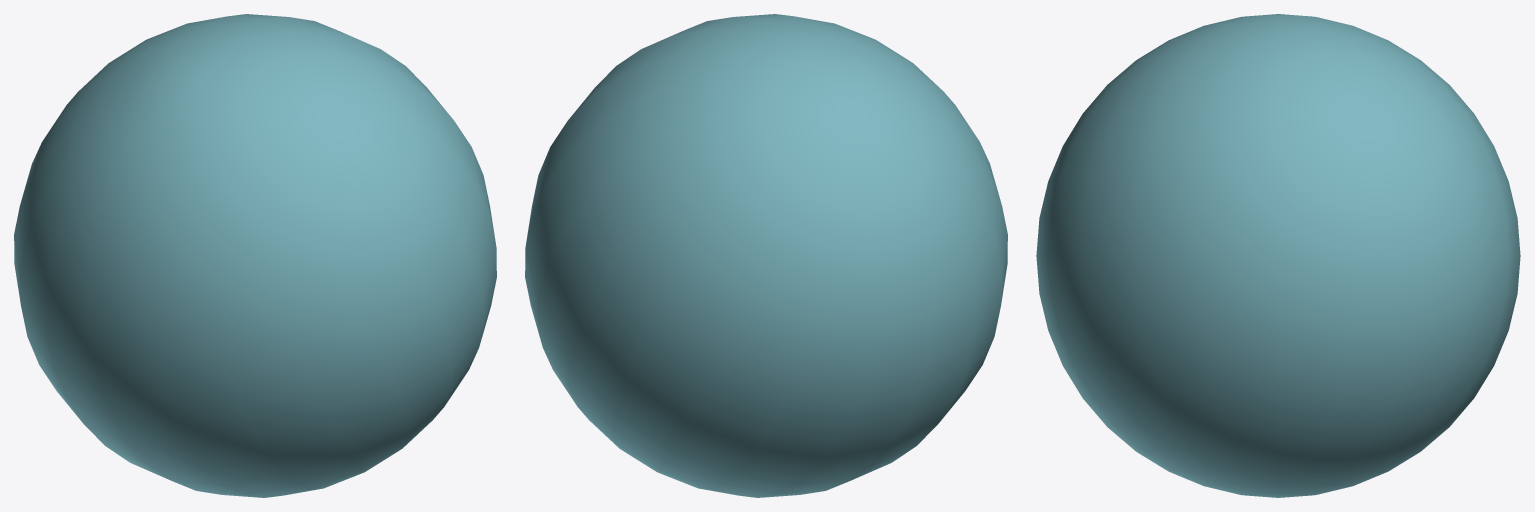
The model's file is Bubble_level4.fbx.
The picture shows the model from 3 angles, left to right: view 1: azimuth 30°, elevation 25°; view 2: azimuth 150°, elevation 25°; view 3: azimuth 270°, elevation 25°; orthographic projection.
Visible parts, largest first — view 1: bubble; view 2: bubble; view 3: bubble.
Part boxes in pixels (x1,y1,x2,y2): bubble: (14, 14, 496, 497); bubble: (525, 14, 1007, 497); bubble: (1036, 14, 1520, 497).
Bounding box in the file's own units: 100 × 100 × 100.
